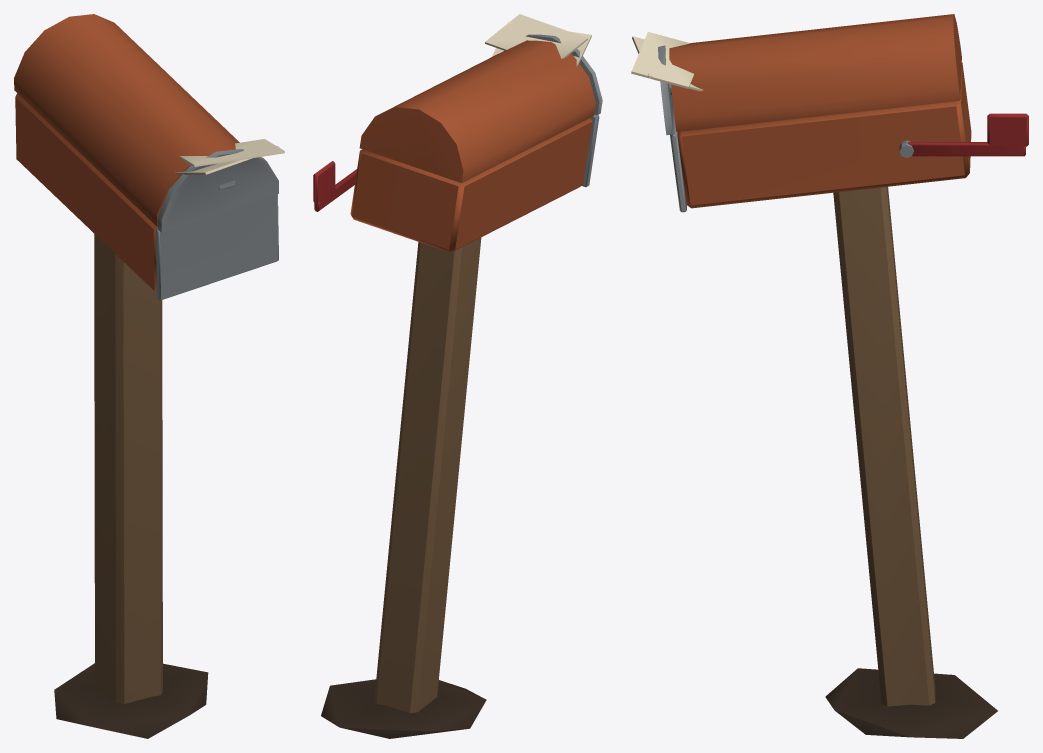
File: mailbox_crooked.glb
3 renders of one model, left to right at view 1: azimuth 30°, elevation 25°; view 2: azimuth 150°, elevation 25°; view 3: azimuth 270°, elevation 25°, orthographic. The views are drawn at different scales.
Parts seen in each view (by area): view 1: mailbox_crooked; view 2: mailbox_crooked, flag; view 3: mailbox_crooked, flag.
Part boxes in pixels (bbox=[...]): mailbox_crooked: bbox=[14, 14, 284, 738]; mailbox_crooked: bbox=[321, 14, 602, 738]; flag: bbox=[313, 161, 356, 211]; mailbox_crooked: bbox=[631, 14, 997, 738]; flag: bbox=[907, 113, 1028, 156].
Size of the model in its own units: 0.329 by 1.28 by 0.6675.
